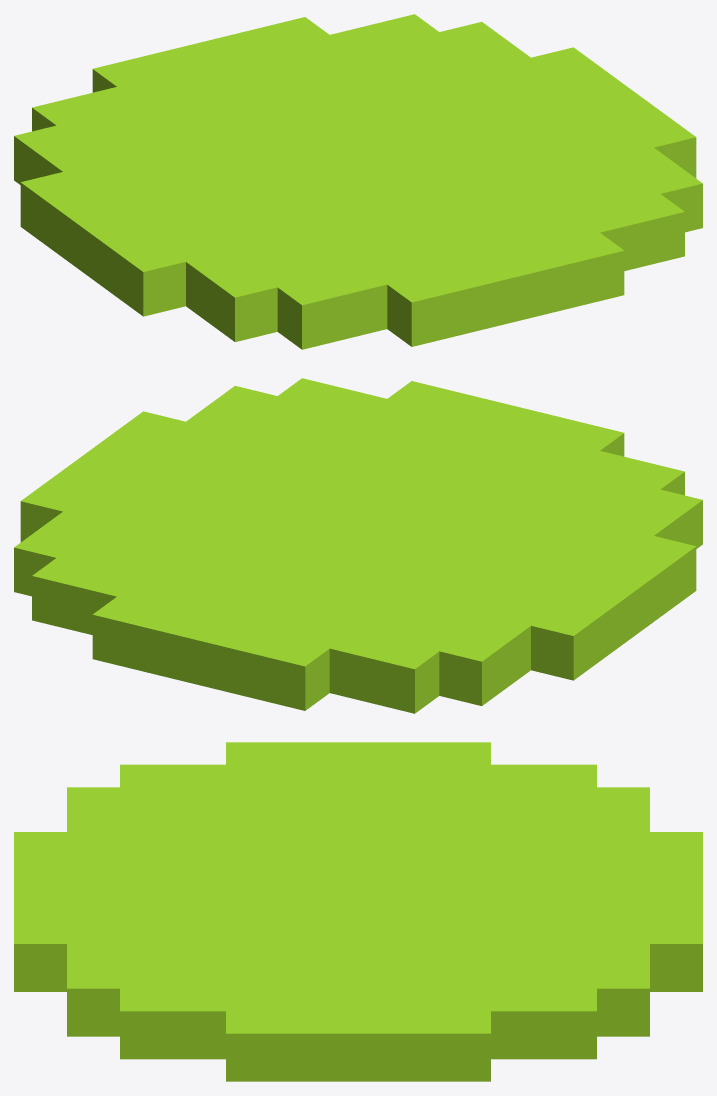
Rendered from splash_a.obj.
The picture shows the model from 3 angles, top to bottom: view 1: azimuth 30°, elevation 25°; view 2: azimuth 150°, elevation 25°; view 3: azimuth 270°, elevation 25°; orthographic projection. The views are drawn at different scales.
Size of the model in its own units: 1.3 by 0.1 by 1.3.
Materials: 1 (1 with a texture image).
